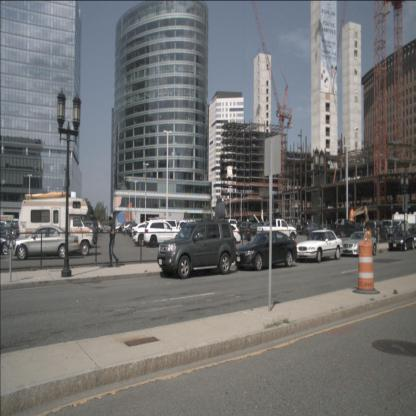cone: (352, 231, 380, 295)
